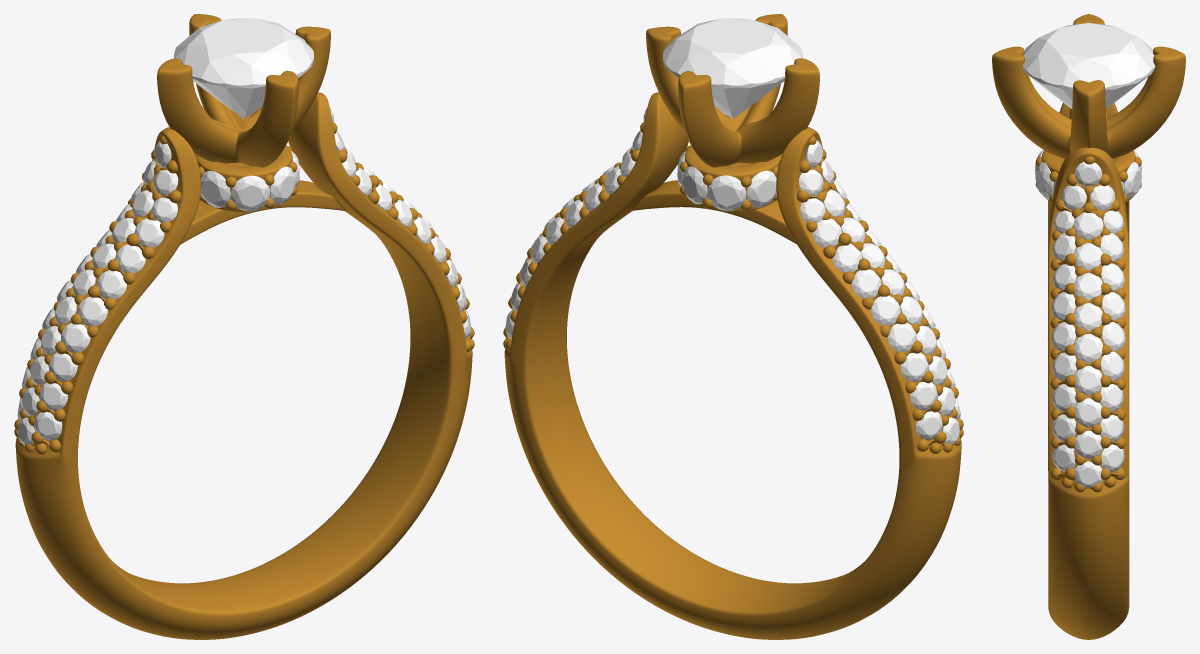
The model's file is ring08.glb.
The picture shows the model from 3 angles, left to right: view 1: azimuth 30°, elevation 25°; view 2: azimuth 150°, elevation 25°; view 3: azimuth 270°, elevation 25°; orthographic projection. The views are drawn at different scales.
Visible parts, largest first — view 1: Ring, Diamond-Placeholder-big, Diamond-Placeholder-ring001, Diamond-Placeholder-ring008, Diamond-Placeholder-ring002, Diamond-Placeholder-pave018, Diamond-Placeholder-pave015, Diamond-Placeholder-pave021, Diamond-Placeholder-pave012, Diamond-Placeholder-pave009; view 2: Ring, Diamond-Placeholder-big, Diamond-Placeholder-ring006, Diamond-Placeholder-ring007, Diamond-Placeholder-ring005, Diamond-Placeholder-pave016, Diamond-Placeholder-pave013, Diamond-Placeholder-pave019, Diamond-Placeholder-pave007, Diamond-Placeholder-pave022; view 3: Ring, Diamond-Placeholder-big, Diamond-Placeholder-pave047, Diamond-Placeholder-pave050, Diamond-Placeholder-pave053, Diamond-Placeholder-pave035, Diamond-Placeholder-pave044, Diamond-Placeholder-pave056, Diamond-Placeholder-pave041, Diamond-Placeholder-pave038, Diamond-Placeholder-pave059, Diamond-Placeholder-pave046 (+22 smaller).
Part boxes in pixels (left/top/right/bottom): Ring: left=14, top=14, right=474, bottom=639; Diamond-Placeholder-big: left=174, top=18, right=313, bottom=118; Diamond-Placeholder-ring001: left=231, top=175, right=269, bottom=211; Diamond-Placeholder-ring008: left=200, top=171, right=230, bottom=207; Diamond-Placeholder-ring002: left=269, top=166, right=294, bottom=204; Diamond-Placeholder-pave018: left=78, top=296, right=107, bottom=326; Diamond-Placeholder-pave015: left=97, top=270, right=126, bottom=299; Diamond-Placeholder-pave021: left=61, top=323, right=90, bottom=352; Diamond-Placeholder-pave012: left=116, top=244, right=145, bottom=273; Diamond-Placeholder-pave009: left=134, top=218, right=164, bottom=247; Ring: left=503, top=14, right=963, bottom=639; Diamond-Placeholder-big: left=663, top=18, right=802, bottom=118; Diamond-Placeholder-ring006: left=707, top=175, right=746, bottom=211; Diamond-Placeholder-ring007: left=746, top=170, right=776, bottom=207; Diamond-Placeholder-ring005: left=682, top=166, right=707, bottom=204; Diamond-Placeholder-pave016: left=871, top=295, right=900, bottom=325; Diamond-Placeholder-pave013: left=851, top=269, right=881, bottom=298; Diamond-Placeholder-pave019: left=887, top=322, right=916, bottom=352; Diamond-Placeholder-pave007: left=812, top=218, right=841, bottom=247; Diamond-Placeholder-pave022: left=900, top=352, right=928, bottom=381; Ring: left=992, top=14, right=1185, bottom=639; Diamond-Placeholder-big: left=1022, top=23, right=1155, bottom=108; Diamond-Placeholder-pave047: left=1074, top=333, right=1102, bottom=362; Diamond-Placeholder-pave050: left=1074, top=365, right=1102, bottom=395; Diamond-Placeholder-pave053: left=1074, top=398, right=1102, bottom=427; Diamond-Placeholder-pave035: left=1073, top=212, right=1103, bottom=239; Diamond-Placeholder-pave044: left=1074, top=303, right=1102, bottom=331; Diamond-Placeholder-pave056: left=1074, top=430, right=1102, bottom=458; Diamond-Placeholder-pave041: left=1074, top=272, right=1102, bottom=300; Diamond-Placeholder-pave038: left=1074, top=243, right=1102, bottom=270; Diamond-Placeholder-pave059: left=1074, top=461, right=1101, bottom=488; Diamond-Placeholder-pave046: left=1051, top=322, right=1076, bottom=350.
Size of the model in its own units: 2.4 by 3.06 by 0.9328.
